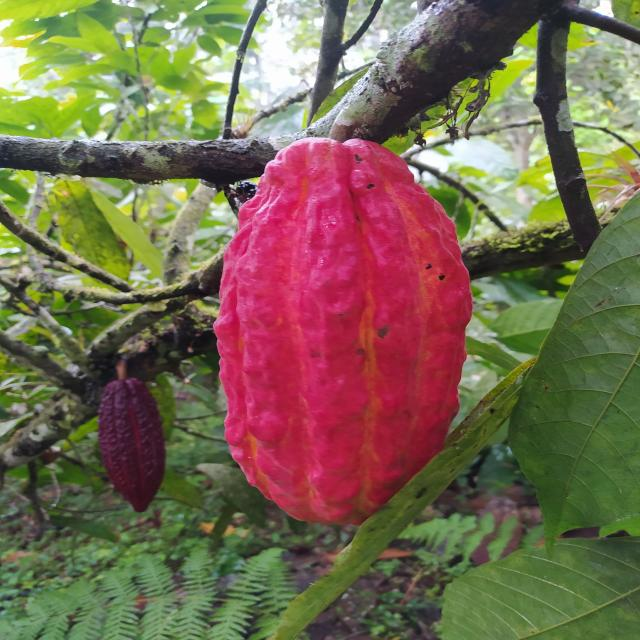Sana: (211, 138, 477, 520), (99, 379, 167, 513)
